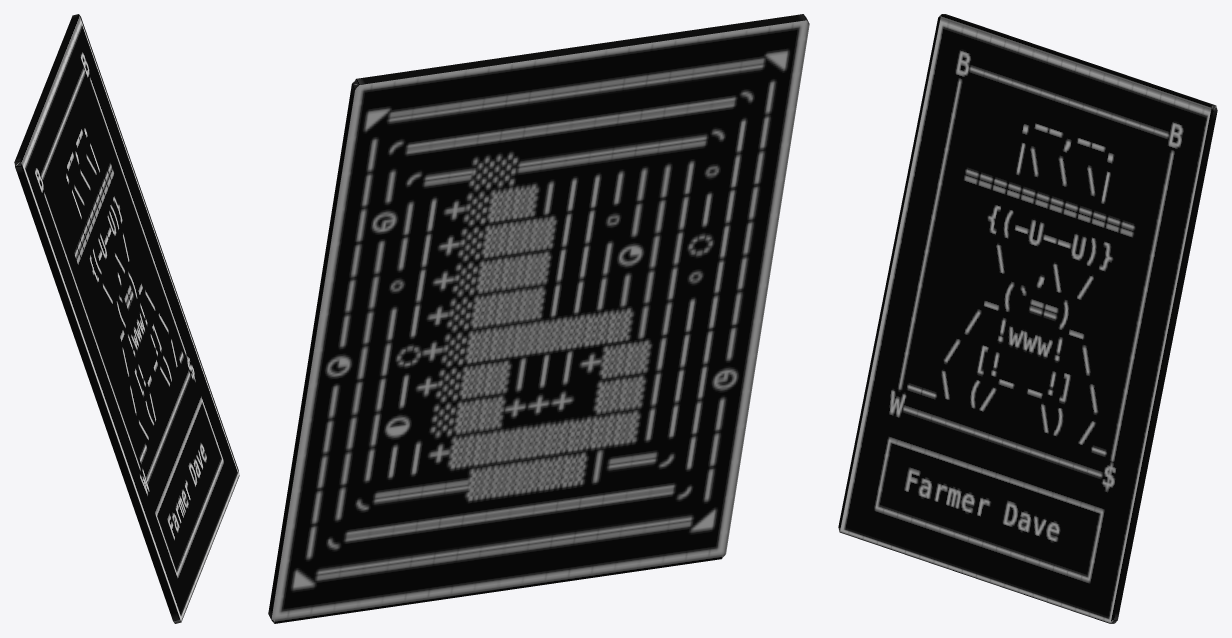
File: ASCII_Farmer_Dave.glb
3 renders of one model, left to right at view 1: azimuth 30°, elevation 25°; view 2: azimuth 150°, elevation 25°; view 3: azimuth 270°, elevation 25°, orthographic. The views are drawn at different scales.
Visible parts, largest first — view 1: Cube; view 2: Cube; view 3: Cube.
Boxes of the visible parts, x1,y1,x2,y2 form: Cube: [14, 14, 239, 623]; Cube: [268, 14, 809, 623]; Cube: [838, 14, 1217, 623].
Size of the model in its own units: 2.03 by 2.89 by 2.12.
1 material, 1 textured.
